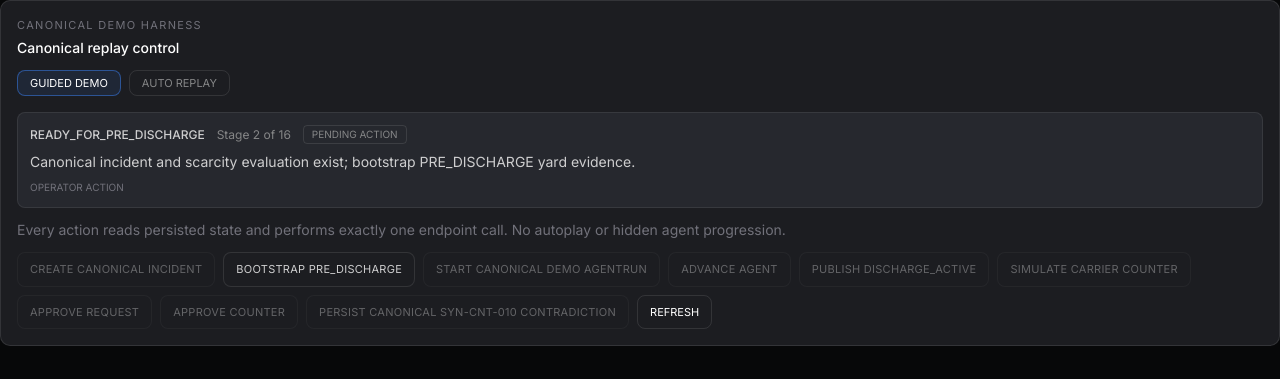
Test: SyntheticDemoControl synthetic auto replay (secondary) › keeps auto replay behind its own tab that never starts by itself
The width and height of the screenshot is (1280, 379).
Click the button "Auto Replay". click: (179, 83)
box: [129, 70, 230, 96]
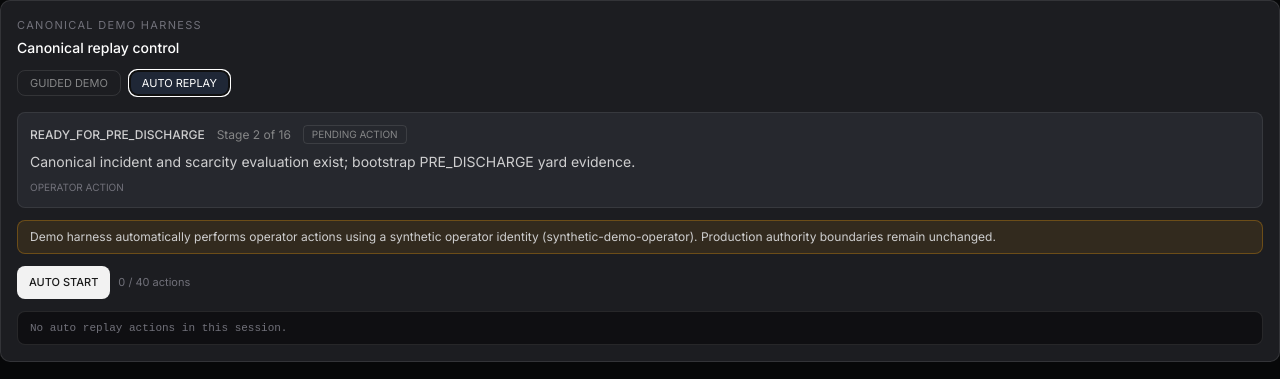
Expected: the text "Production authority boundaries remain unchanged." is shown, [30, 229, 996, 244]
